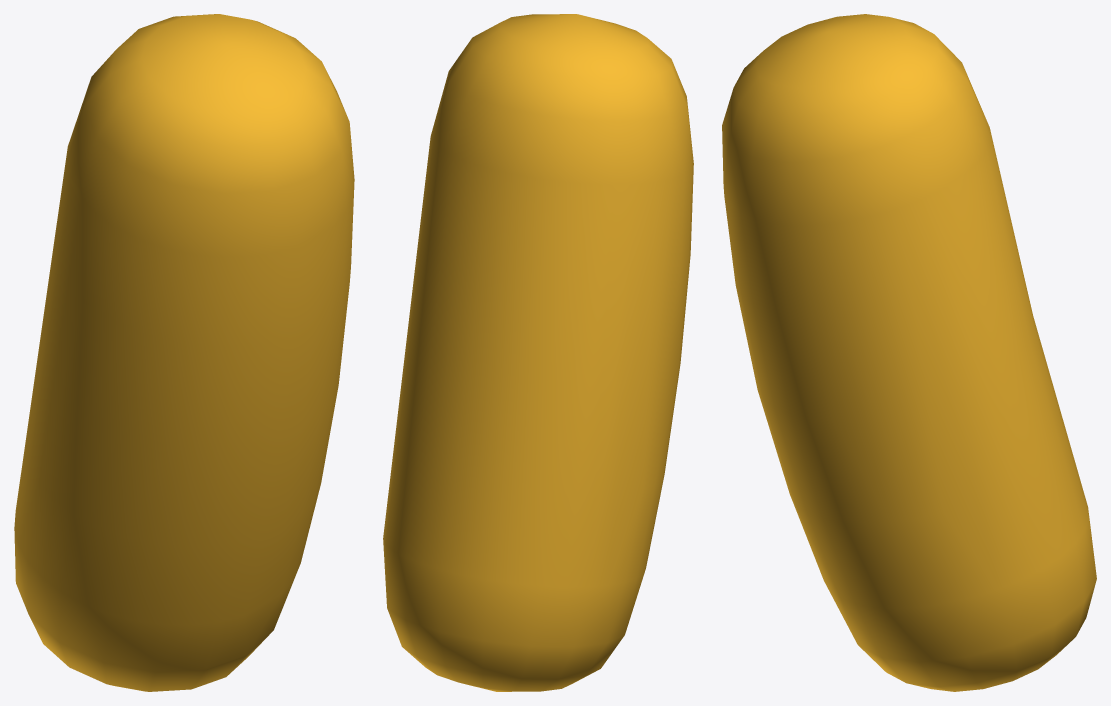
The model's file is nervoso-red-nucleus-l.glb.
3 views of the same model, side by side, from view 1: azimuth 30°, elevation 25°; view 2: azimuth 150°, elevation 25°; view 3: azimuth 270°, elevation 25° (orthographic). The views are drawn at different scales.
Parts seen in each view (by area): view 1: Red nucleus.l; view 2: Red nucleus.l; view 3: Red nucleus.l.
Part boxes in pixels (x1=…): Red nucleus.l: x1=14, y1=14, x2=354, y2=691; Red nucleus.l: x1=383, y1=14, x2=693, y2=691; Red nucleus.l: x1=722, y1=14, x2=1096, y2=691.
Size of the model in its own units: 0.00514 by 0.0129 by 0.00681.
